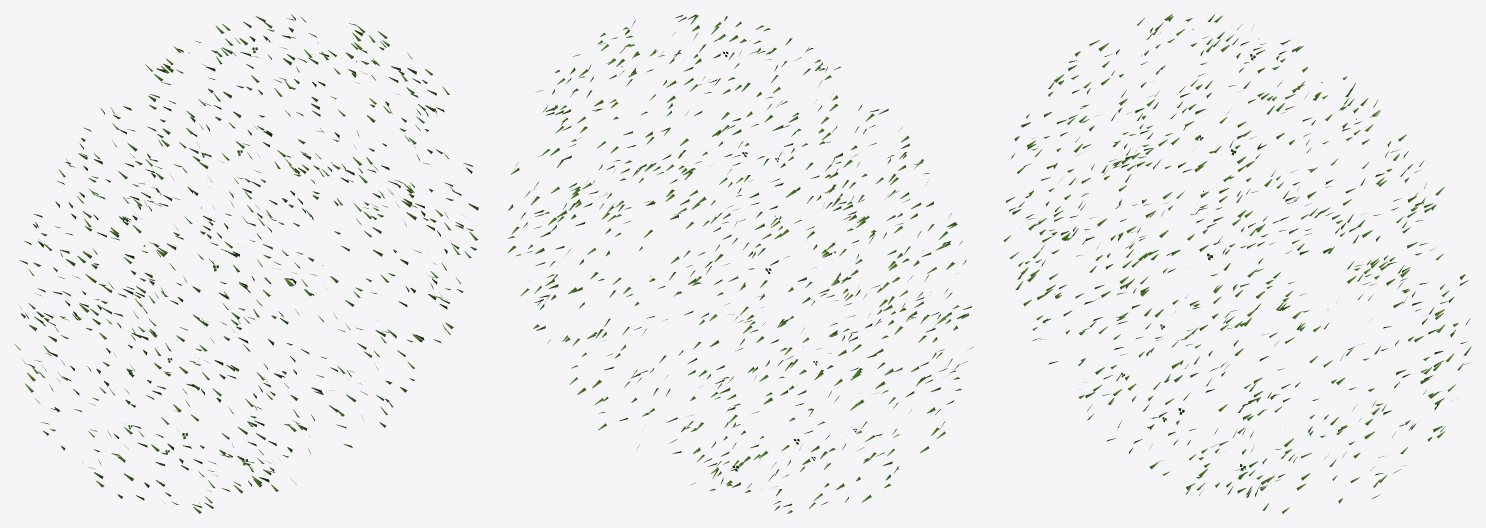
The model's file is Grass_Tile_GreatLawn.glb.
3 views of the same model, side by side, from view 1: azimuth 30°, elevation 25°; view 2: azimuth 150°, elevation 25°; view 3: azimuth 330°, elevation 25° (orthographic).
Parts seen in each view (by area): view 1: Grass_Tile_GreatLawn; view 2: Grass_Tile_GreatLawn; view 3: Grass_Tile_GreatLawn.
Boxes of the visible parts, box(x1,y1,x2,y2) form: Grass_Tile_GreatLawn: box(14, 14, 478, 513); Grass_Tile_GreatLawn: box(507, 14, 973, 513); Grass_Tile_GreatLawn: box(1003, 14, 1471, 513).
Bounding box in the file's own units: 1.98 × 1.97 × 0.0705.
